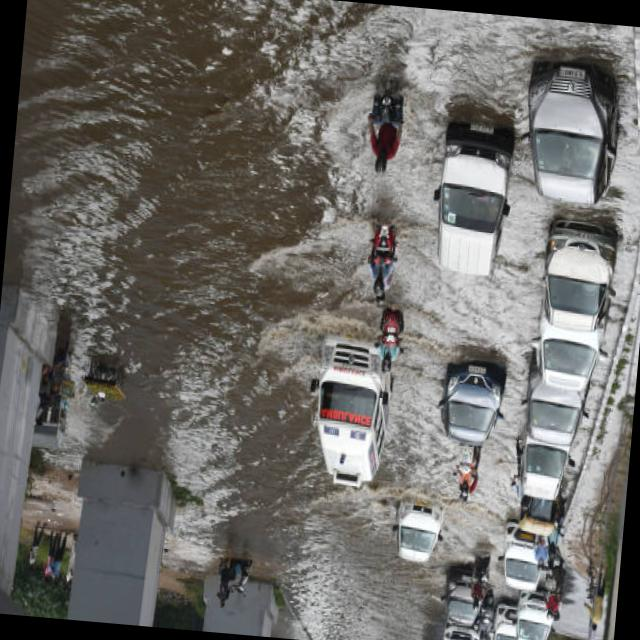ambulance: (302, 323, 396, 492), (316, 376, 383, 445)
